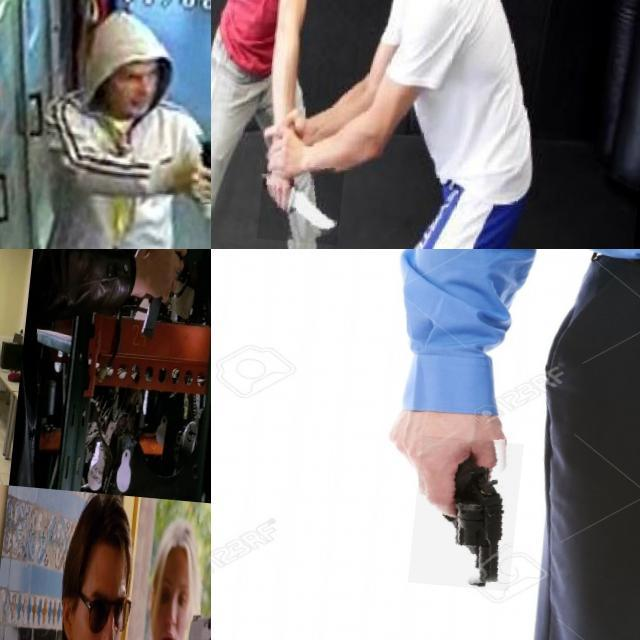-: (266, 160, 352, 239)
gun-knife-thesis - v11 Yolov5 augmented: (417, 430, 530, 584), (145, 249, 211, 324), (0, 288, 12, 319)
